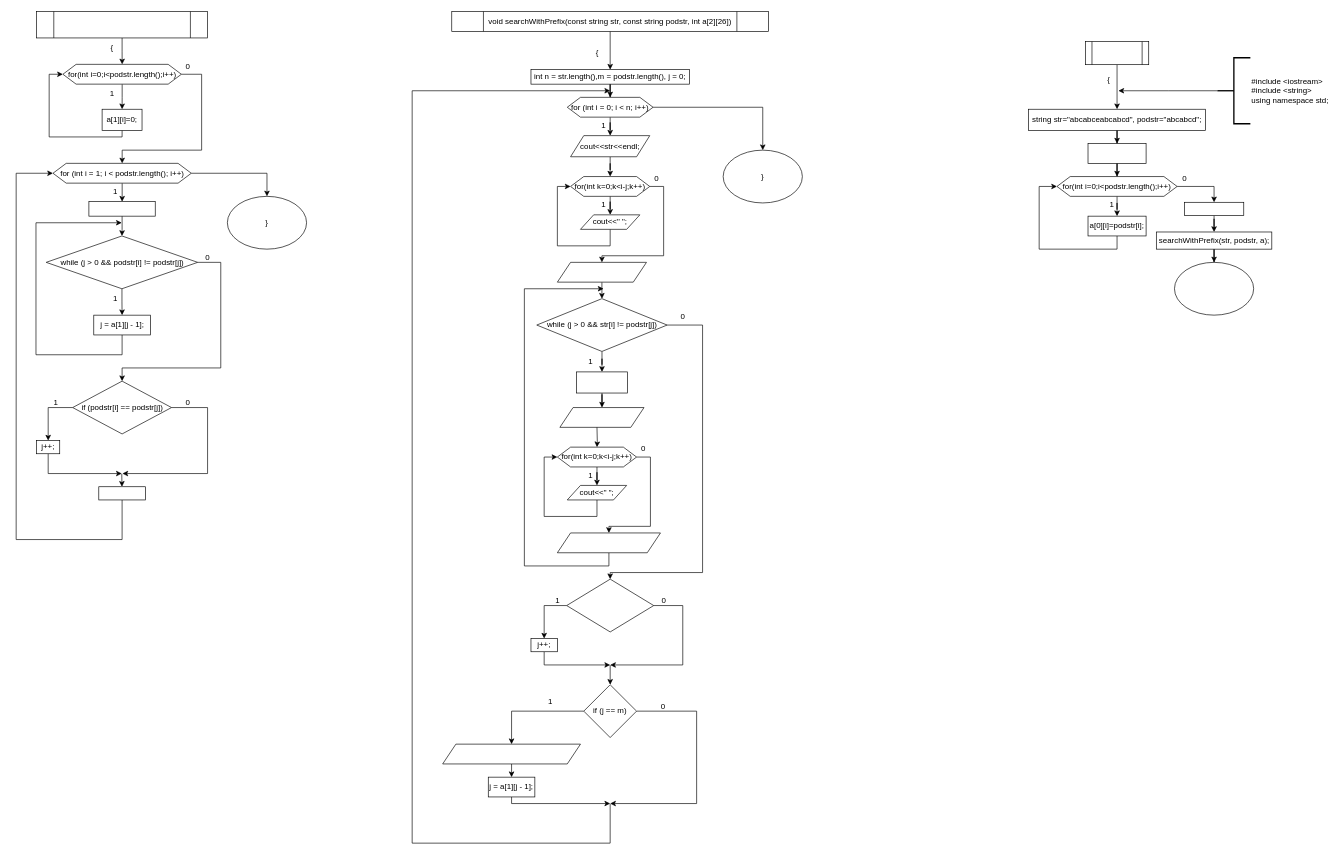
This 1340x860 diagram has some shape labels left out. Each missing label, with the centre of its shape:
a[1][i] = j;: [121,493]
cout << "Подстрока найдена на позиции: " << i - m + 1 << endl;: [511,753]
cout << podstr << endl;: [608,542]
cout << str << endl;: [601,417]
cout<<podstr<<endl;: [601,272]
if (str[i] == podstr[j]): [610,605]
int a[2][26];: [1116,153]
int j = a[1][i - 1];: [121,208]
int main(): [1117,53]
j =a[1][j - 1];: [602,382]
prefix(a,podstr);: [1214,208]
return 0;: [1214,288]
void prefix(int a[2][26],string podstr): [122,24]
